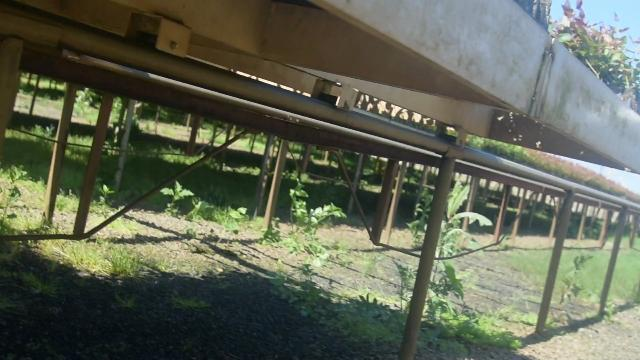MalezaMontesDelPlata: (394, 182, 496, 329), (289, 175, 352, 311), (274, 281, 405, 345), (0, 161, 47, 258), (420, 309, 526, 352), (544, 251, 597, 334), (41, 238, 146, 272), (0, 260, 69, 301), (167, 290, 216, 318), (256, 215, 290, 254), (159, 179, 194, 215), (211, 202, 251, 231), (88, 182, 119, 216), (108, 288, 150, 313)
